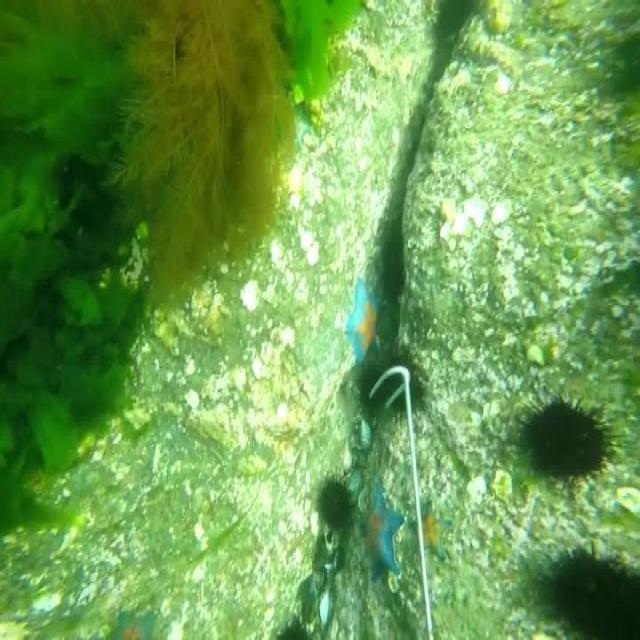echinus: (542, 547, 640, 640), (522, 395, 620, 479), (388, 344, 422, 422), (318, 476, 352, 531), (362, 365, 388, 409), (276, 614, 309, 640)
scallop: (466, 190, 484, 229), (442, 205, 465, 234), (491, 196, 512, 224), (491, 472, 513, 498), (468, 474, 486, 504)
starfish: (360, 474, 401, 586), (348, 275, 384, 362), (417, 502, 452, 562), (110, 611, 160, 640)
